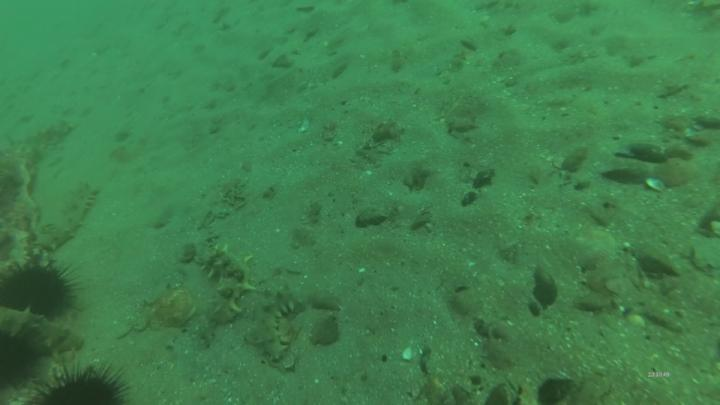echinus: (1, 254, 89, 324), (21, 357, 138, 405)
holothurian: (27, 177, 101, 252), (195, 241, 257, 325), (255, 286, 303, 361)
